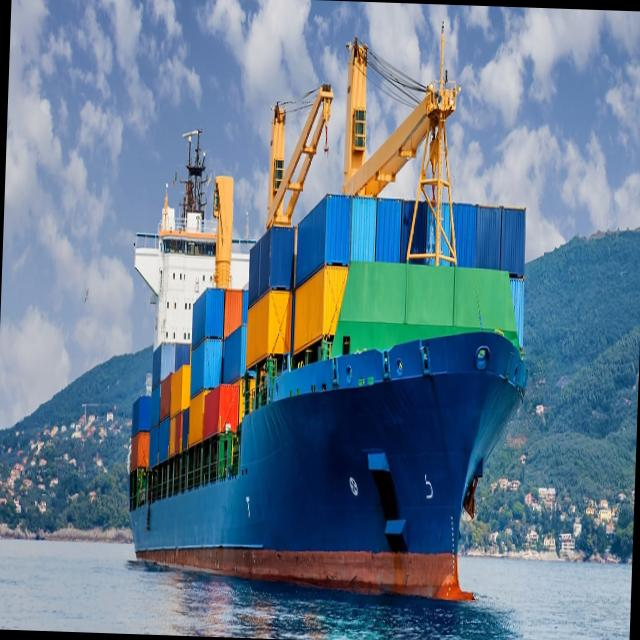boat: (111, 1, 554, 630)
